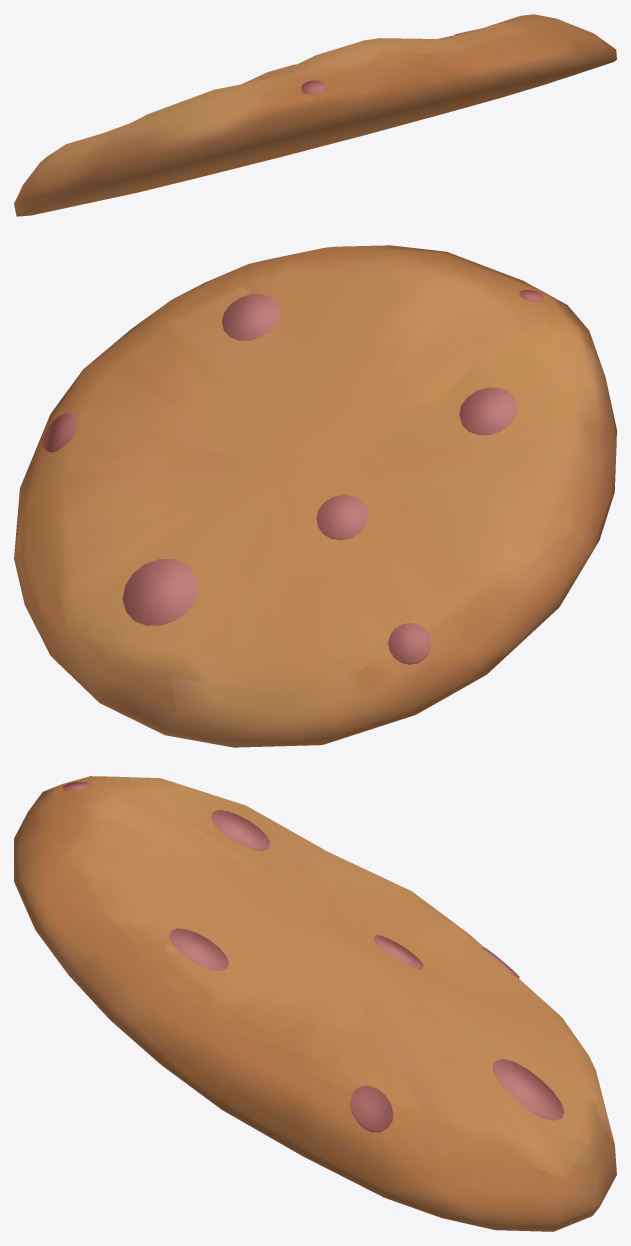
Rendered from cookie-transformed.glb.
3 renders of one model, top to bottom at view 1: azimuth 30°, elevation 25°; view 2: azimuth 150°, elevation 25°; view 3: azimuth 270°, elevation 25°, orthographic. The views are drawn at different scales.
Parts seen in each view (by area): view 1: Cylinder_1, Cylinder.007_0; view 2: Cylinder_1, Cylinder.007_0; view 3: Cylinder_1, Cylinder.007_0.
Part boxes in pixels (bbox=[...]): Cylinder_1: bbox=[14, 14, 616, 216]; Cylinder.007_0: bbox=[301, 22, 513, 94]; Cylinder_1: bbox=[14, 245, 616, 747]; Cylinder.007_0: bbox=[42, 290, 543, 664]; Cylinder_1: bbox=[14, 776, 616, 1231]; Cylinder.007_0: bbox=[63, 781, 564, 1132].
Size of the model in its own units: 0.1252 by 0.0679 by 0.1086.
Materials: 5 (1 with a texture image).
